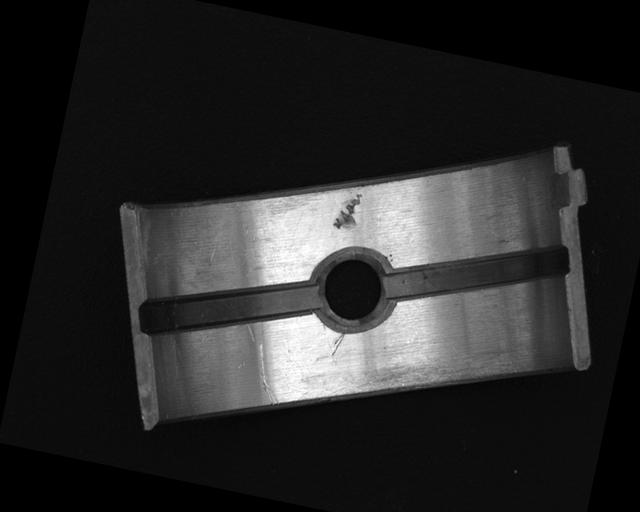bruise: (331, 188, 364, 233)
gap: (385, 213, 570, 332), (137, 253, 322, 366)
hole: (303, 245, 399, 341)
nick: (245, 340, 288, 406), (329, 329, 346, 359)
scratch: (361, 332, 519, 421)
